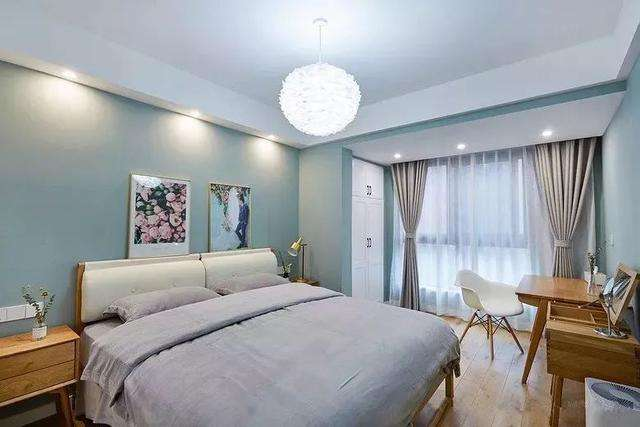床: (77, 285, 461, 427)
枕头: (117, 268, 298, 307)
灯: (269, 24, 360, 148), (536, 126, 552, 139), (452, 142, 464, 153)
